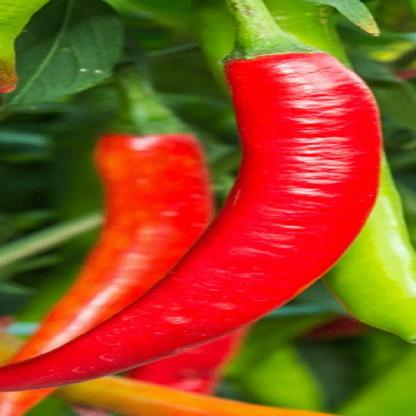chili: (6, 1, 375, 392)
